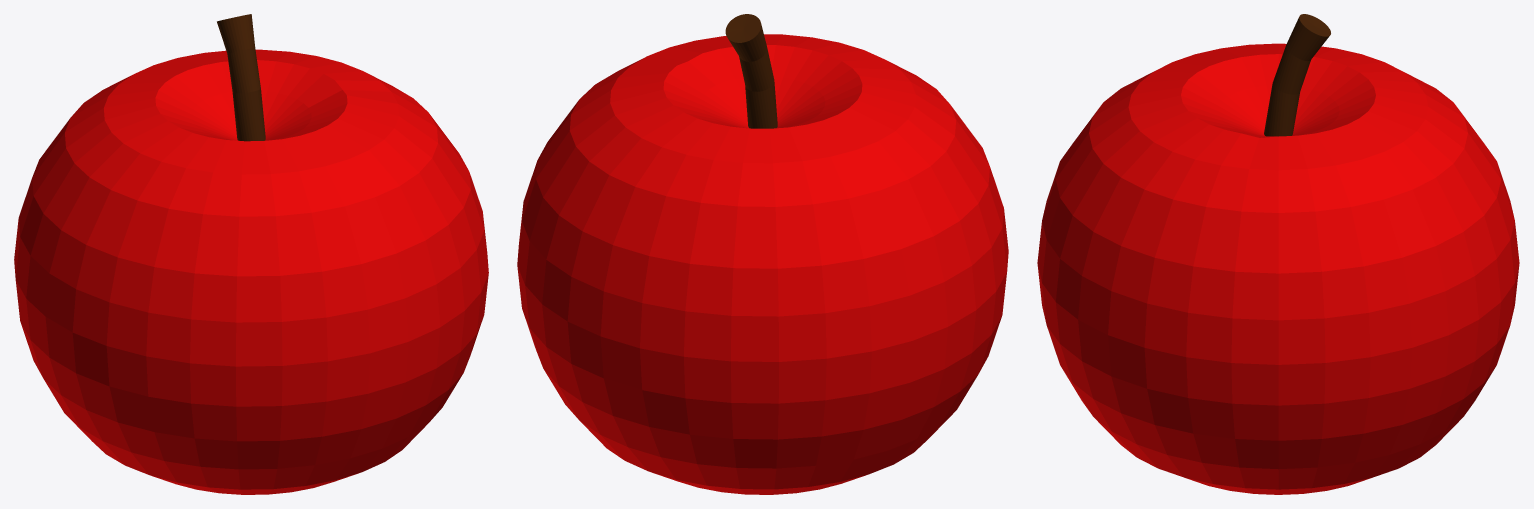
Rendered from RedApple.fbx.
The picture shows the model from 3 angles, left to right: view 1: azimuth 30°, elevation 25°; view 2: azimuth 150°, elevation 25°; view 3: azimuth 270°, elevation 25°; orthographic projection. The views are drawn at different scales.
Visible parts, largest first — view 1: Сфера; view 2: Сфера; view 3: Сфера.
Boxes of the visible parts, left/top/right/bottom form: Сфера: left=14, top=14, right=488, bottom=494; Сфера: left=517, top=14, right=1008, bottom=494; Сфера: left=1037, top=14, right=1519, bottom=494.
Size of the model in its own units: 200 by 199 by 200.
